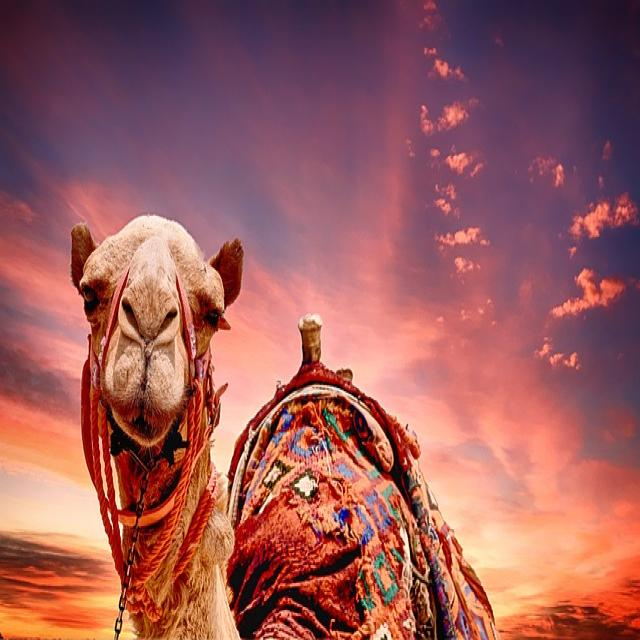Herbivorous: (70, 216, 491, 640)
